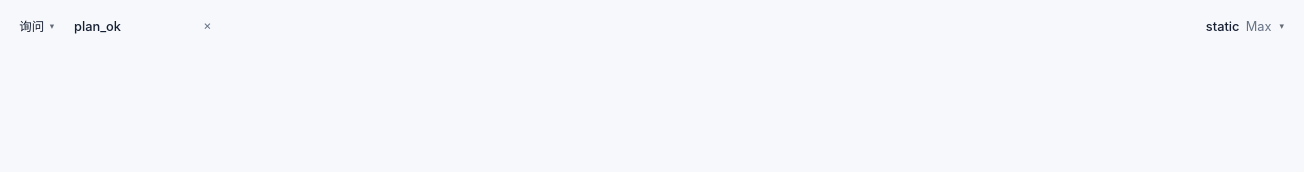
ChatSeats › clears a bound planId from the plan seat chip control
Step 1. Click the button with test id "agent-chat-seat-plan-clear" → (207, 26), box [197, 16, 217, 36]
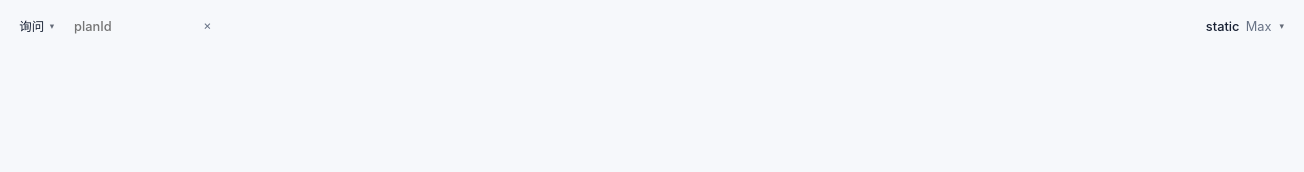
Check: the field with test id "agent-chat-seat-plan" is empty, box [67, 12, 195, 40]
